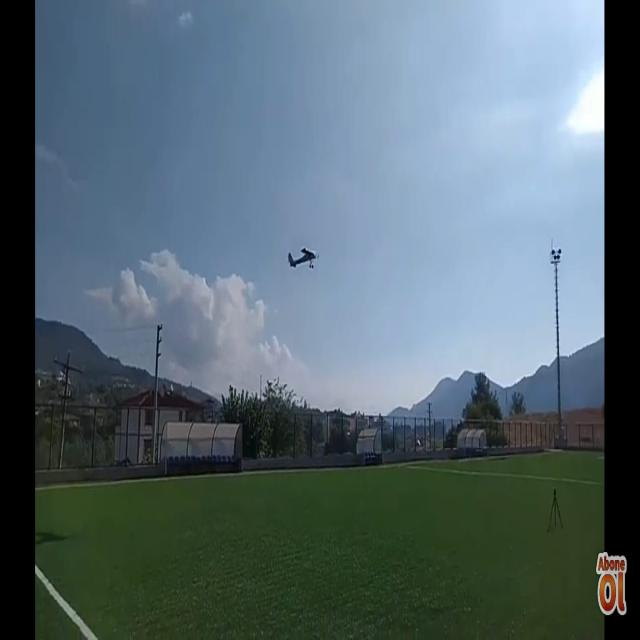iha: (288, 245, 320, 270)
